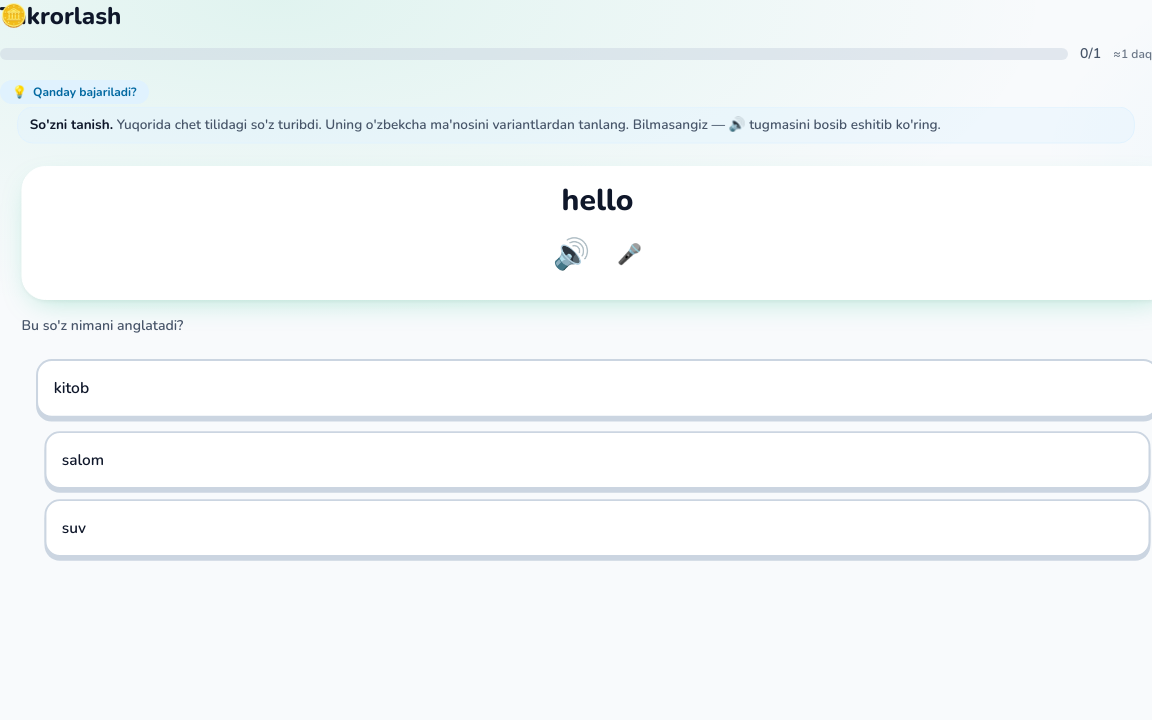
Test: ReviewScreen — feedback aniqligi › tanib olishda "To‘g‘ri javob" sifatida TARJIMA ko‘rsatiladi, savol emas
Expected: the text "0/1" is shown, 1080,44 -> 1101,64
Click the button "kitob": (71, 388) 36,359 -> 1151,418
(page scrolled)
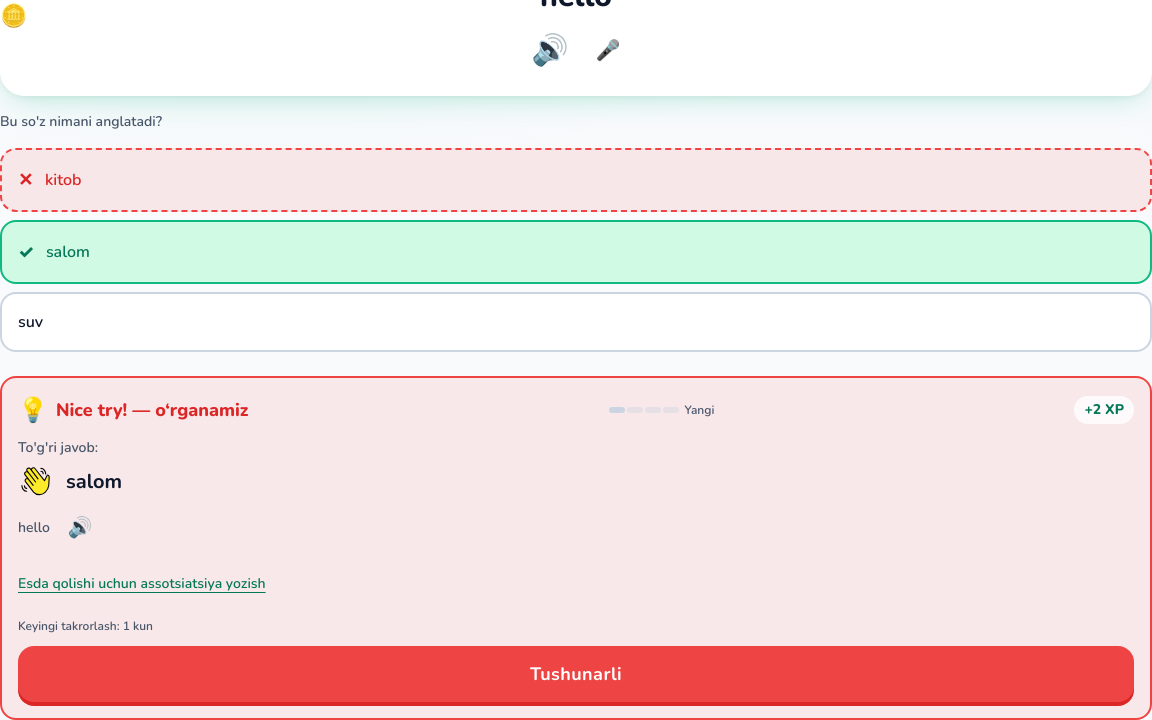
Expected: the text with test id "correct-answer" does not show "hello", 66,468 -> 122,496
Now the text with test id "correct-answer" reads "salom", box 66,468 -> 122,495
